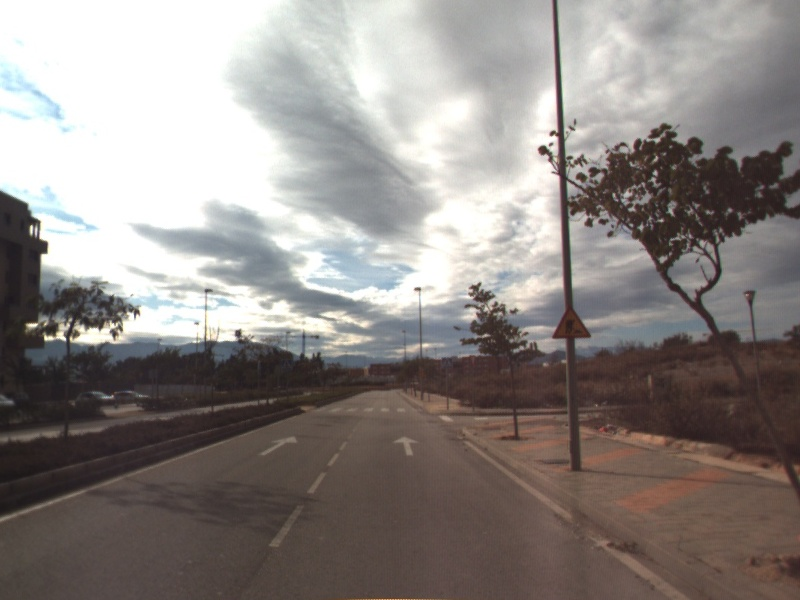STRAIGHT: (256, 434, 299, 457), (390, 434, 422, 457)
